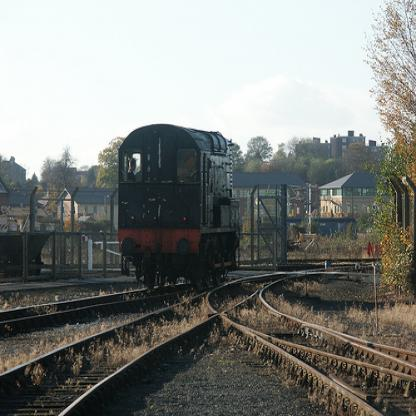train: (117, 119, 243, 288)
